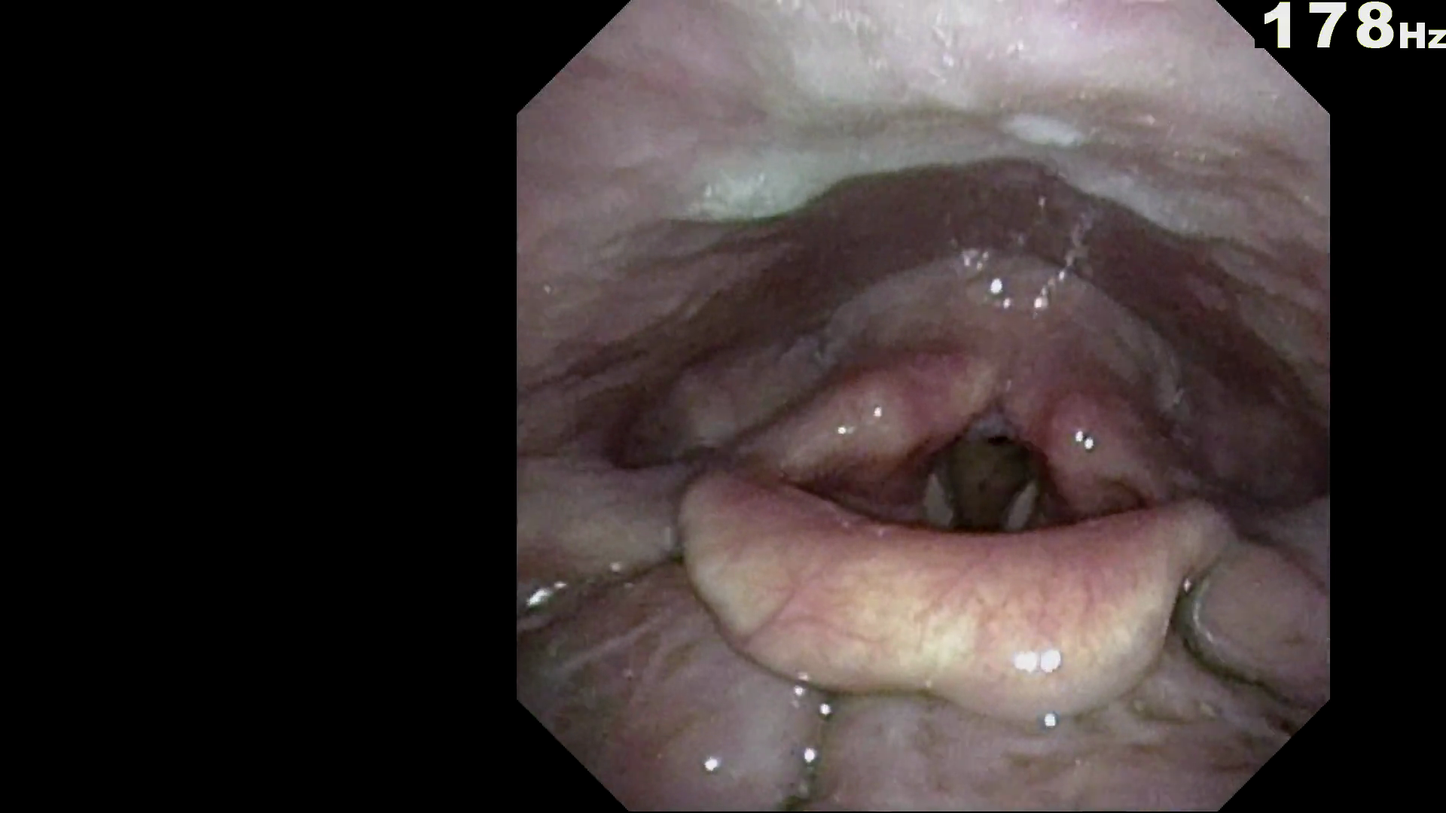epiglottis: (671, 500, 1215, 691)
trachea: (917, 426, 1053, 551)
